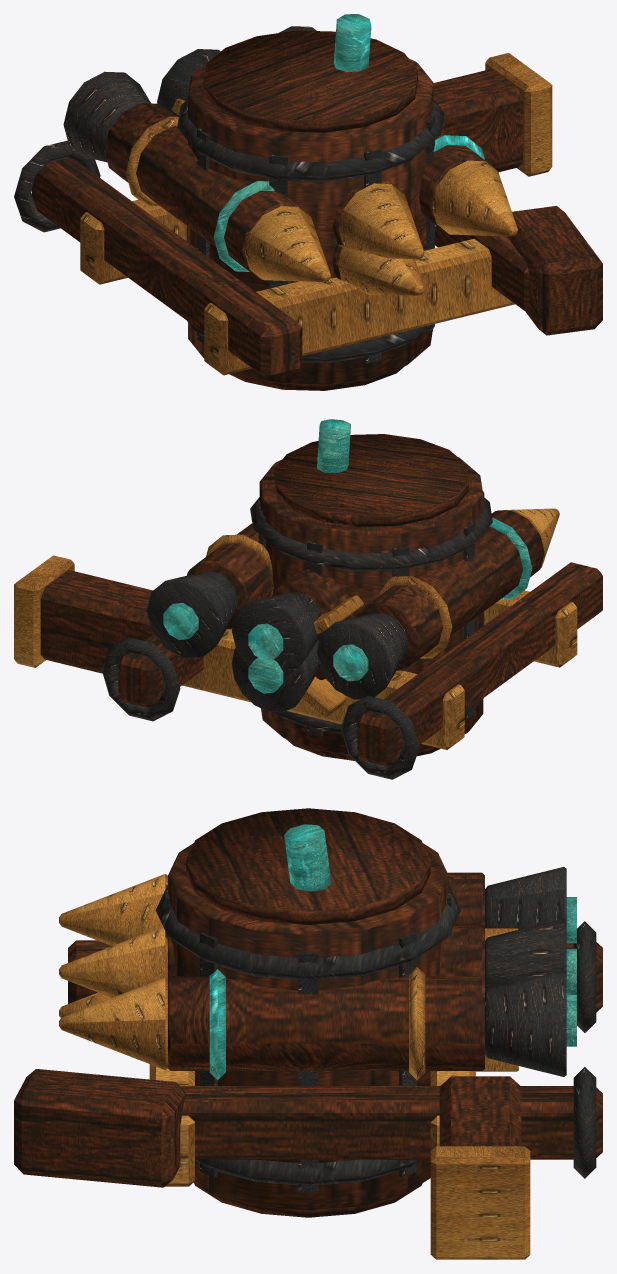
File: baron-props.glb
3 renders of one model, top to bottom at view 1: azimuth 30°, elevation 25°; view 2: azimuth 150°, elevation 25°; view 3: azimuth 270°, elevation 25°, orthographic. The views are drawn at different scales.
Parts seen in each view (by area): view 1: launcher, powder_keg, rocket; view 2: launcher, powder_keg, rocket; view 3: launcher, powder_keg, rocket.
Boxes of the visible parts, x1=… form: launcher: x1=14, y1=26, x2=602, y2=379; powder_keg: x1=177, y1=14, x2=444, y2=390; rocket: x1=172, y1=98, x2=424, y2=295; launcher: x1=14, y1=508, x2=602, y2=779; powder_keg: x1=250, y1=419, x2=492, y2=760; rocket: x1=231, y1=595, x2=363, y2=717; launcher: x1=14, y1=867, x2=602, y2=1259; powder_keg: x1=155, y1=808, x2=460, y2=1217; rocket: x1=59, y1=928, x2=576, y2=1071.
Bounding box in the file's own units: 1.37 × 0.8723 × 1.3.
1 material, 1 textured.
